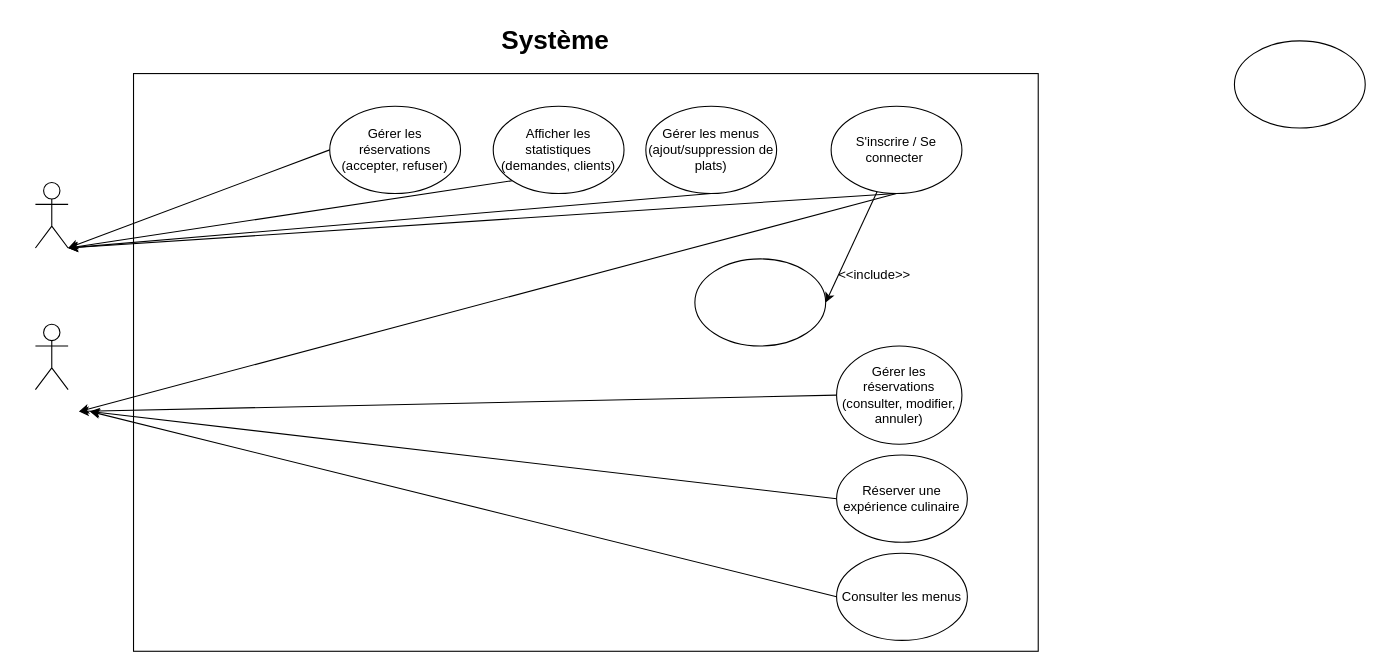
This 1384x670 diagram has some shape labels left out. Each missing label, with the centre of its shape:
"Chaf" belongs at point (51, 214).
"Utilisateur" belongs at point (51, 356).
"Valider les formulaires" belongs at point (760, 302).
"Valider les formulaires avec regex" belongs at point (1299, 84).
